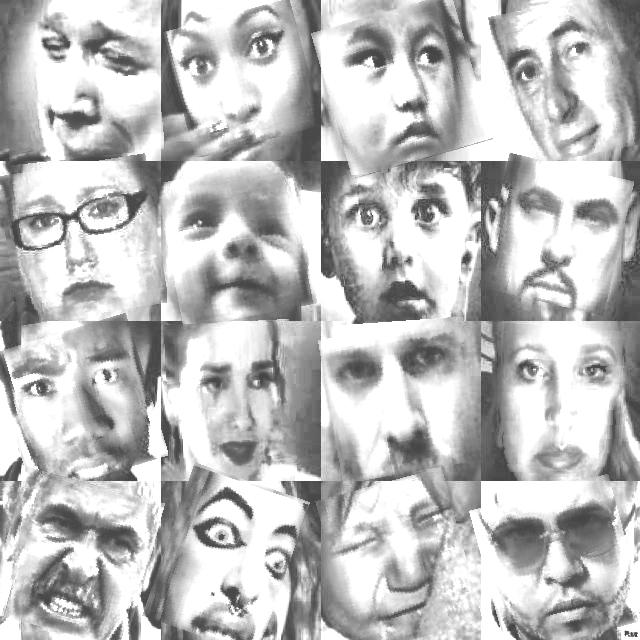angry: (0, 321, 159, 487), (1, 159, 162, 320), (0, 474, 156, 640), (477, 481, 638, 640), (153, 470, 298, 640)
fear: (170, 5, 316, 150), (331, 170, 461, 328)
happy: (163, 164, 311, 324), (494, 0, 640, 161)
neutral: (320, 1, 484, 171), (324, 322, 476, 478), (486, 160, 628, 310)
sad: (324, 474, 473, 640), (0, 14, 161, 161), (166, 320, 296, 478), (497, 325, 628, 477)
